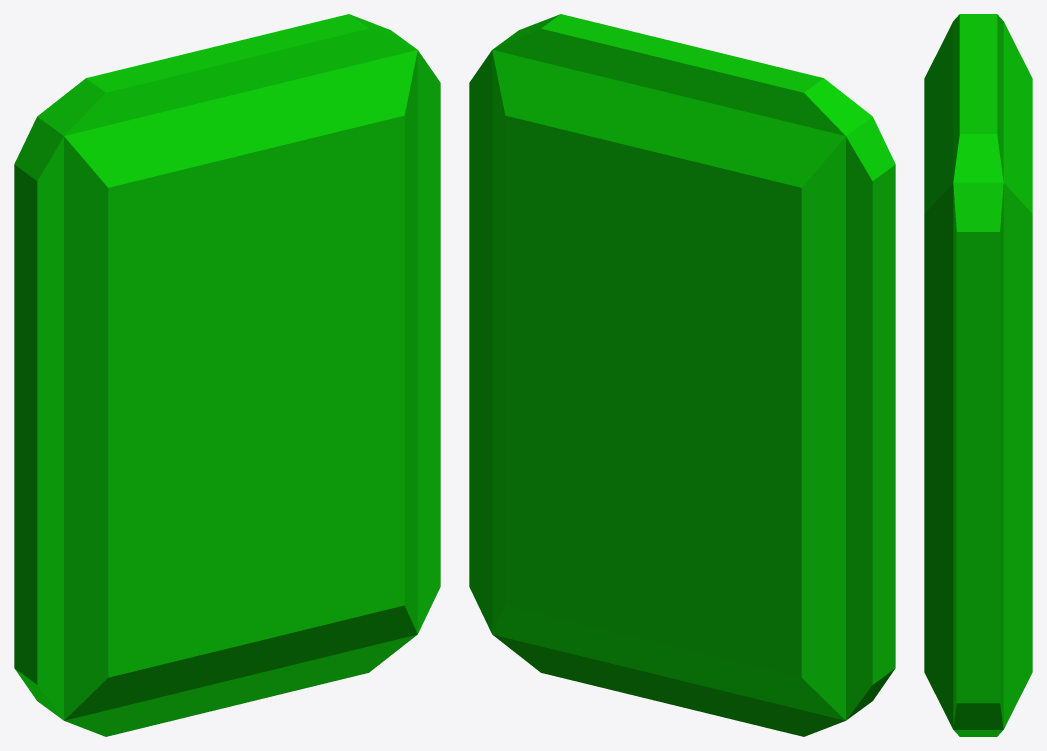
The model's file is gem3.fbx.
The picture shows the model from 3 angles, left to right: view 1: azimuth 30°, elevation 25°; view 2: azimuth 150°, elevation 25°; view 3: azimuth 270°, elevation 25°; orthographic projection. The views are drawn at different scales.
Parts seen in each view (by area): view 1: gem3; view 2: gem3; view 3: gem3.
Boxes of the visible parts, x1=… form: gem3: x1=14, y1=14, x2=440, y2=736; gem3: x1=469, y1=14, x2=895, y2=736; gem3: x1=924, y1=14, x2=1032, y2=736.
Bounding box in the file's own units: 173 × 264 × 43.05.
